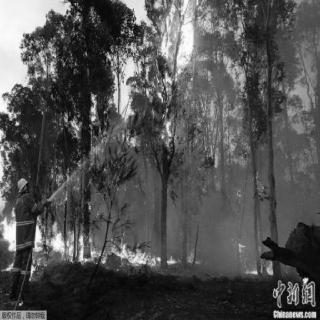Fire: (148, 7, 200, 167)
